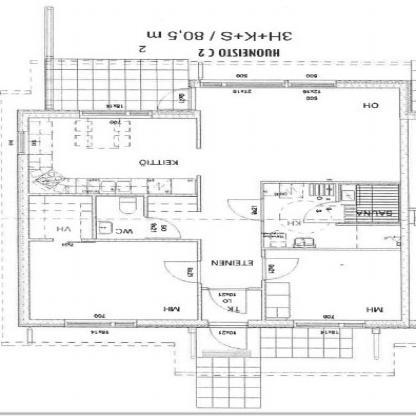bathroom: (264, 182, 406, 248), (96, 198, 146, 240)
door: (202, 319, 254, 350), (205, 286, 250, 315), (299, 200, 348, 226), (258, 254, 301, 282), (143, 214, 186, 242), (159, 258, 204, 284), (225, 197, 267, 222)
perimeter: (19, 84, 412, 324)
window: (192, 78, 288, 92), (57, 316, 146, 329), (287, 318, 372, 330), (75, 108, 157, 120), (286, 76, 341, 92), (12, 129, 32, 158)
